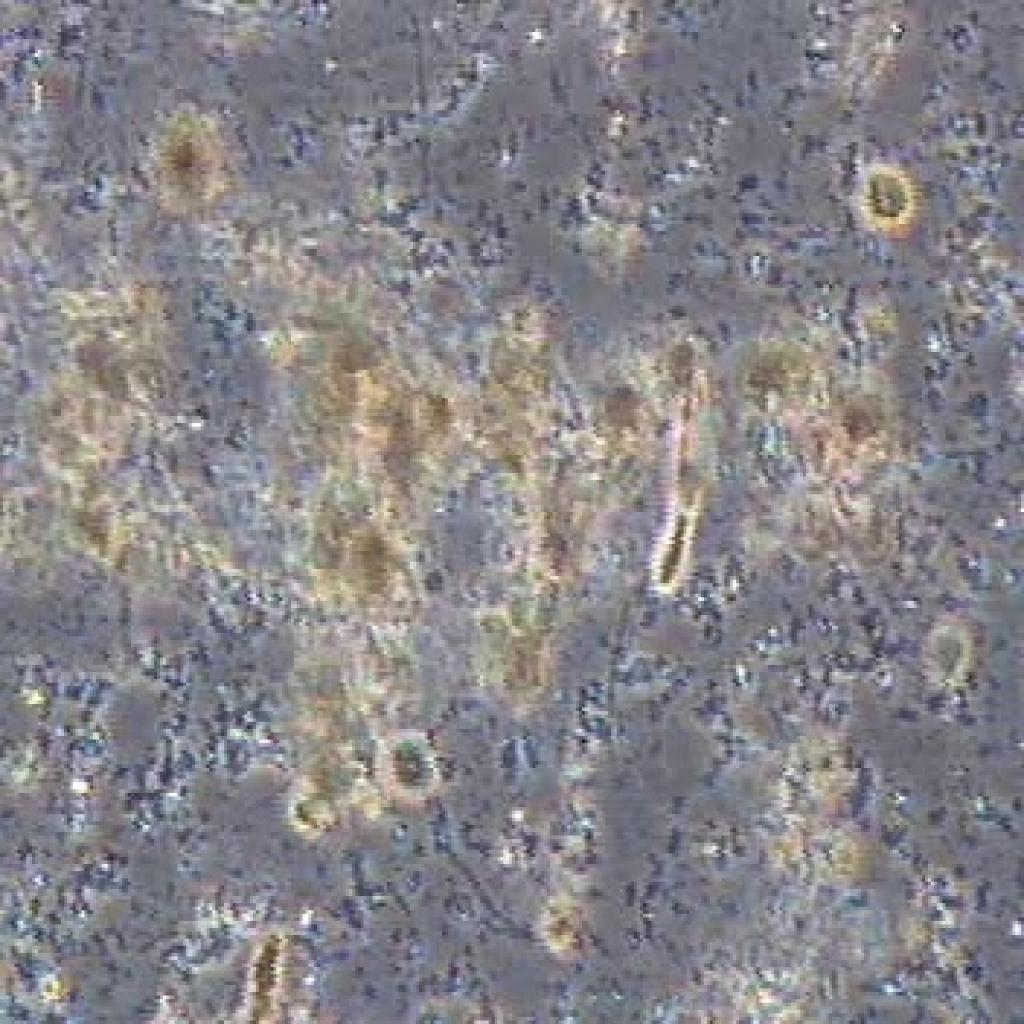Chaetonotus: (646, 491, 710, 608)
